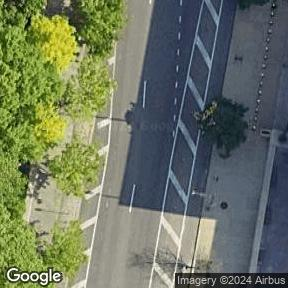vegetation: (0, 0, 122, 288), (43, 131, 113, 202), (191, 94, 257, 162), (40, 215, 96, 278)
